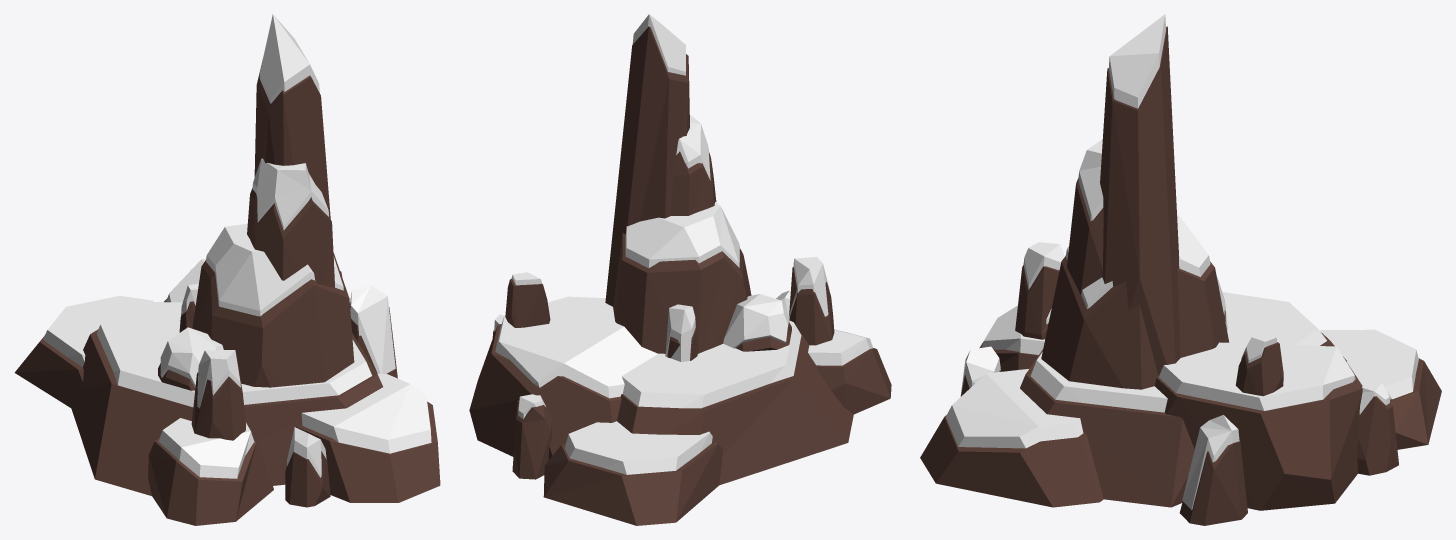
File: snow_rock_009.fbx
The picture shows the model from 3 angles, left to right: view 1: azimuth 30°, elevation 25°; view 2: azimuth 150°, elevation 25°; view 3: azimuth 270°, elevation 25°; orthographic projection. The views are drawn at different scales.
Visible parts, largest first — view 1: snow_rock_009; view 2: snow_rock_009; view 3: snow_rock_009.
Part boxes in pixels (<box>): snow_rock_009: <box>14,14,440,525</box>; snow_rock_009: <box>469,14,891,525</box>; snow_rock_009: <box>920,14,1441,525</box>.
Bounding box in the file's own units: 1651 × 2083 × 1929.
